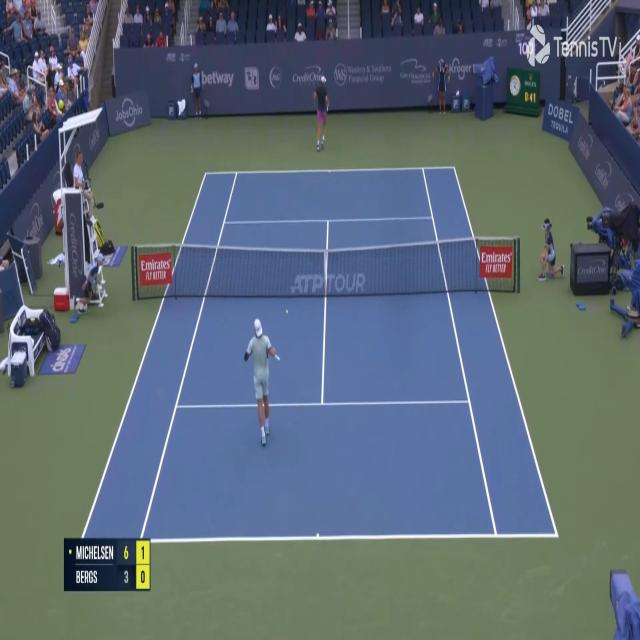tennis-player: (242, 316, 281, 448), (312, 74, 329, 154)
